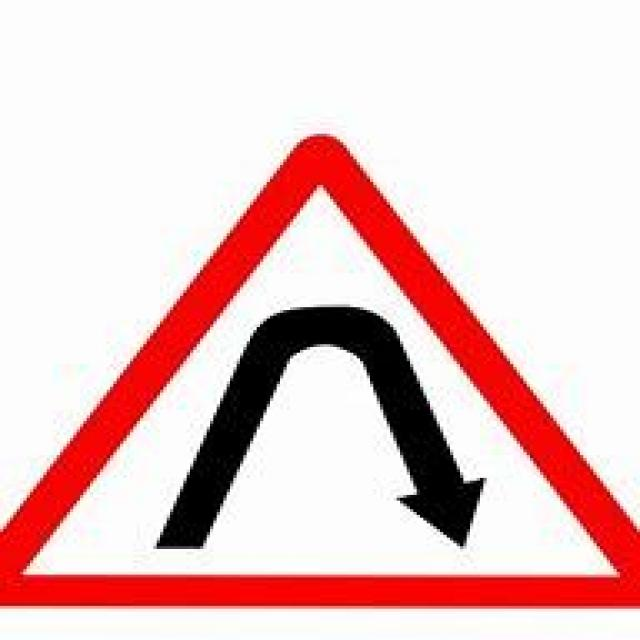RIGHT_HAIR_PIN_BEND: (0, 125, 637, 606)
